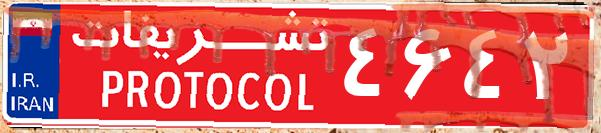2: (520, 20, 580, 115)
4: (340, 20, 400, 115), (460, 20, 520, 115)
6: (400, 20, 460, 115)
تشریفات: (60, 8, 340, 125)
